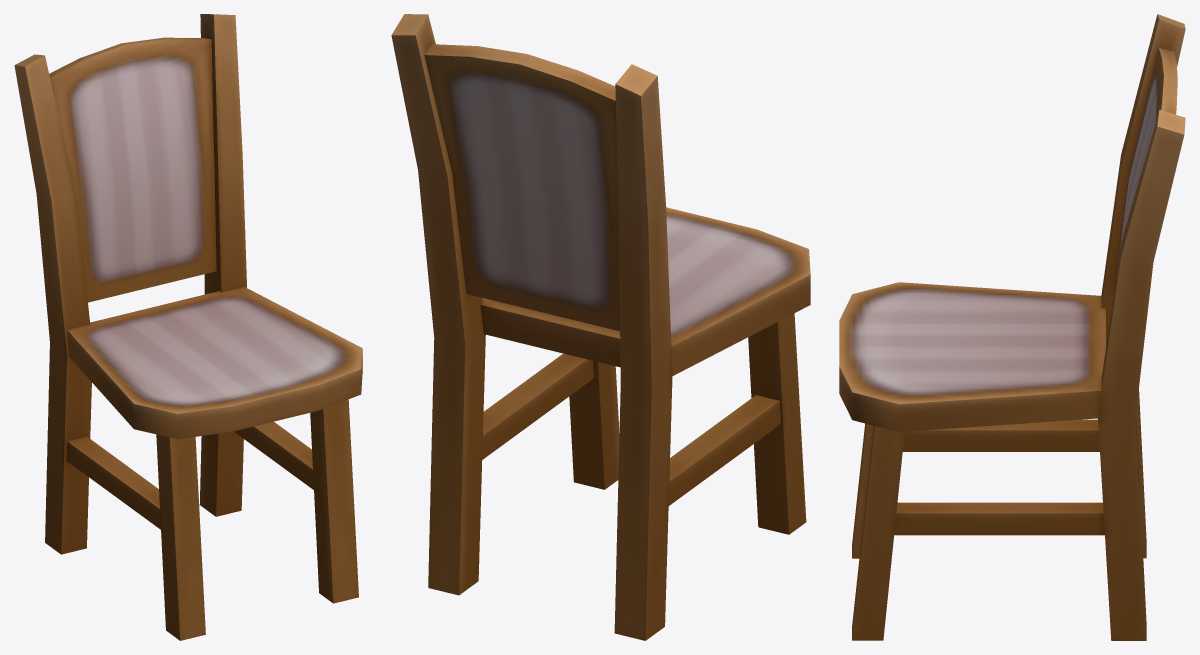
File: Chair.FBX
The picture shows the model from 3 angles, left to right: view 1: azimuth 30°, elevation 25°; view 2: azimuth 150°, elevation 25°; view 3: azimuth 270°, elevation 25°; orthographic projection. The views are drawn at different scales.
Parts seen in each view (by area): view 1: Chair; view 2: Chair; view 3: Chair.
Boxes of the visible parts, box(x1,y1,x2,y2) form: Chair: box(14, 14, 362, 640); Chair: box(391, 14, 810, 640); Chair: box(839, 14, 1185, 640).
Bounding box in the file's own units: 57.56 × 116 × 68.88.
